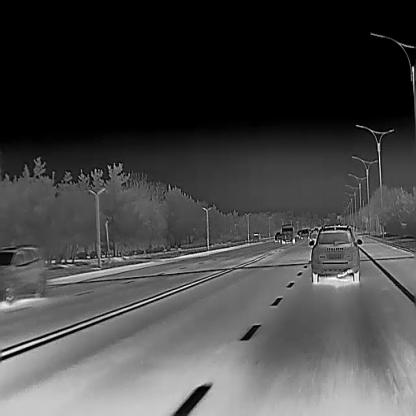car: (308, 225, 362, 282), (0, 242, 45, 302), (297, 228, 308, 238), (252, 232, 262, 242), (274, 231, 281, 241)
truck: (280, 224, 295, 243)
